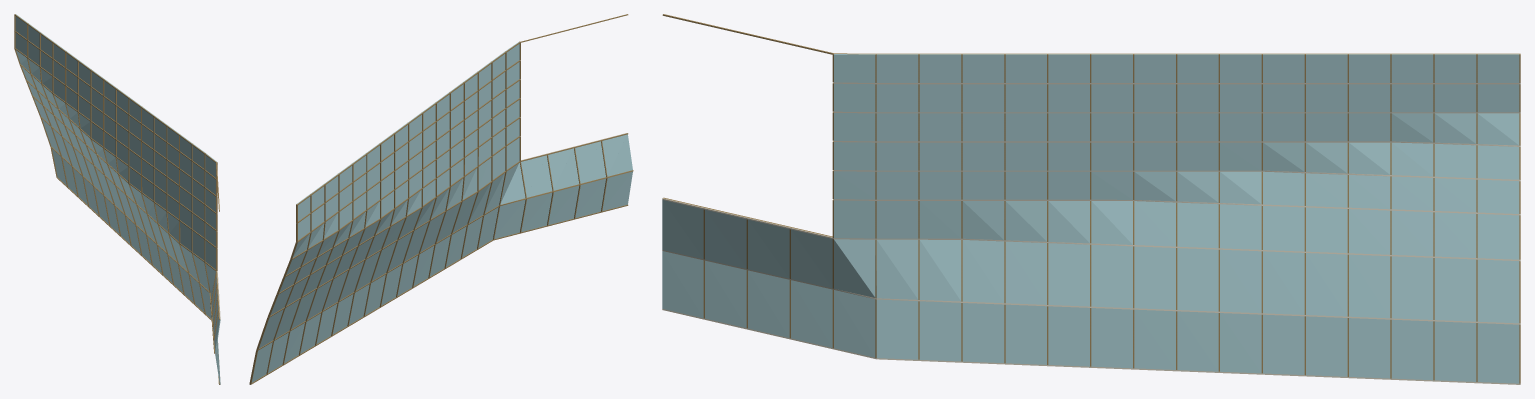
The model's file is G7_Completion_Body_1_07.glb.
3 views of the same model, side by side, from view 1: azimuth 30°, elevation 25°; view 2: azimuth 150°, elevation 25°; view 3: azimuth 270°, elevation 25° (orthographic). The views are drawn at different scales.
Visible parts, largest first — view 1: Body_1_07_G7C3_glass_solid_skin, Body_1_07_G7C3_metal_solid_frame; view 2: Body_1_07_G7C3_glass_solid_skin, Body_1_07_G7C3_metal_solid_frame; view 3: Body_1_07_G7C3_glass_solid_skin, Body_1_07_G7C3_shell_solid_skin, Body_1_07_G7C3_metal_solid_skin, Body_1_07_G7C3_metal_solid_frame.
Boxes of the visible parts, x1,y1,x2,y2 form: Body_1_07_G7C3_glass_solid_skin: [15, 14, 220, 384]; Body_1_07_G7C3_metal_solid_frame: [14, 14, 219, 384]; Body_1_07_G7C3_glass_solid_skin: [251, 42, 632, 382]; Body_1_07_G7C3_metal_solid_frame: [250, 14, 633, 384]; Body_1_07_G7C3_glass_solid_skin: [662, 54, 1519, 383]; Body_1_07_G7C3_shell_solid_skin: [662, 82, 1520, 384]; Body_1_07_G7C3_metal_solid_skin: [703, 54, 1520, 383]; Body_1_07_G7C3_metal_solid_frame: [662, 14, 1520, 236].
Bounding box in the file's own units: 26.47 × 45.5 × 120.
3 materials, 2 textured.
